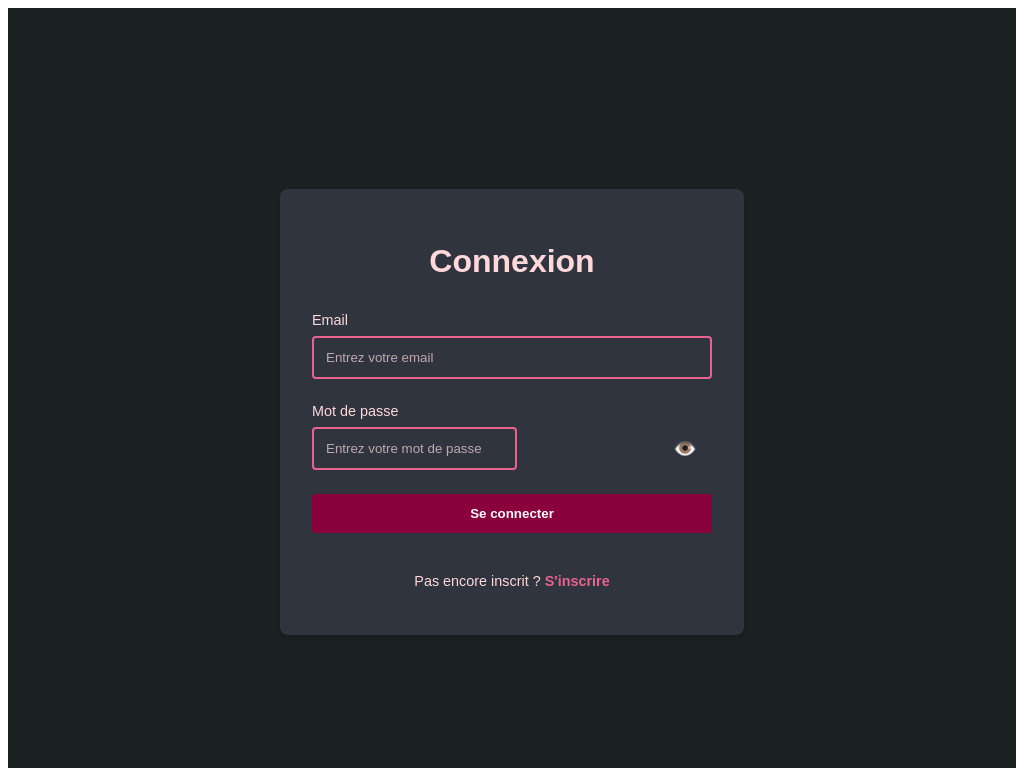
Test: Login.vue › désactive le bouton pendant le chargement
The width and height of the screenshot is (1024, 768).
// Remplir et soumettre le formulaire
Type "test@example.com" into the field with id "email" at [512, 357], box [312,336,712,378]
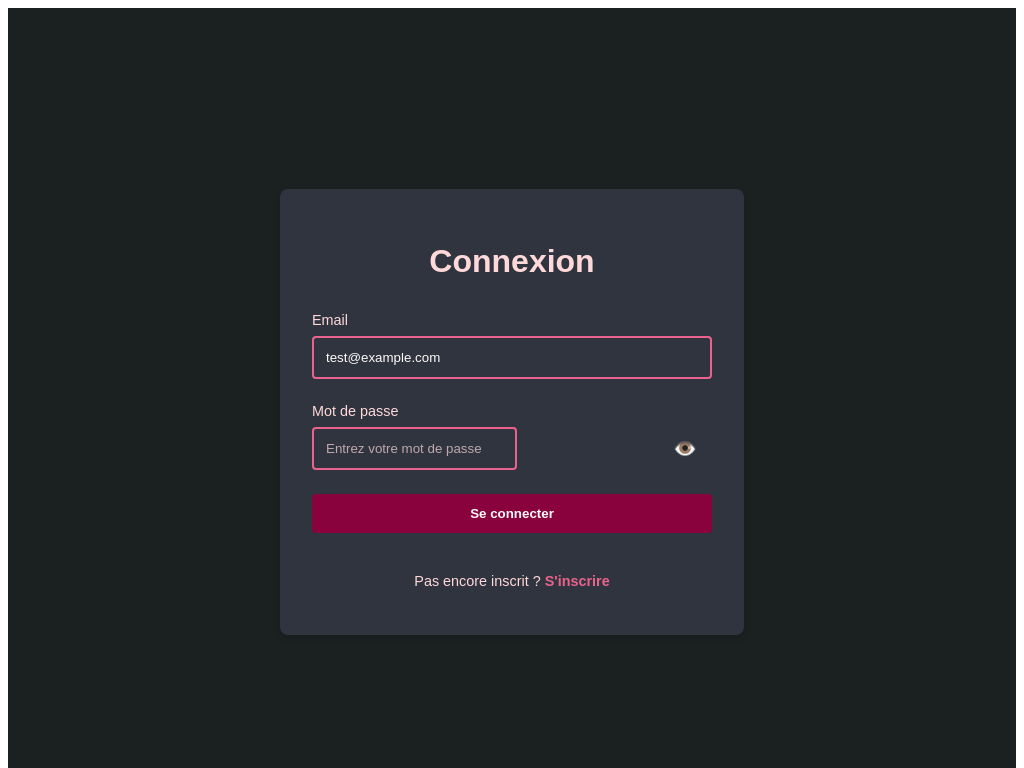
Type "password123" into the password field labelled "Mot de passe" at [414, 448], box [312,426,517,470]
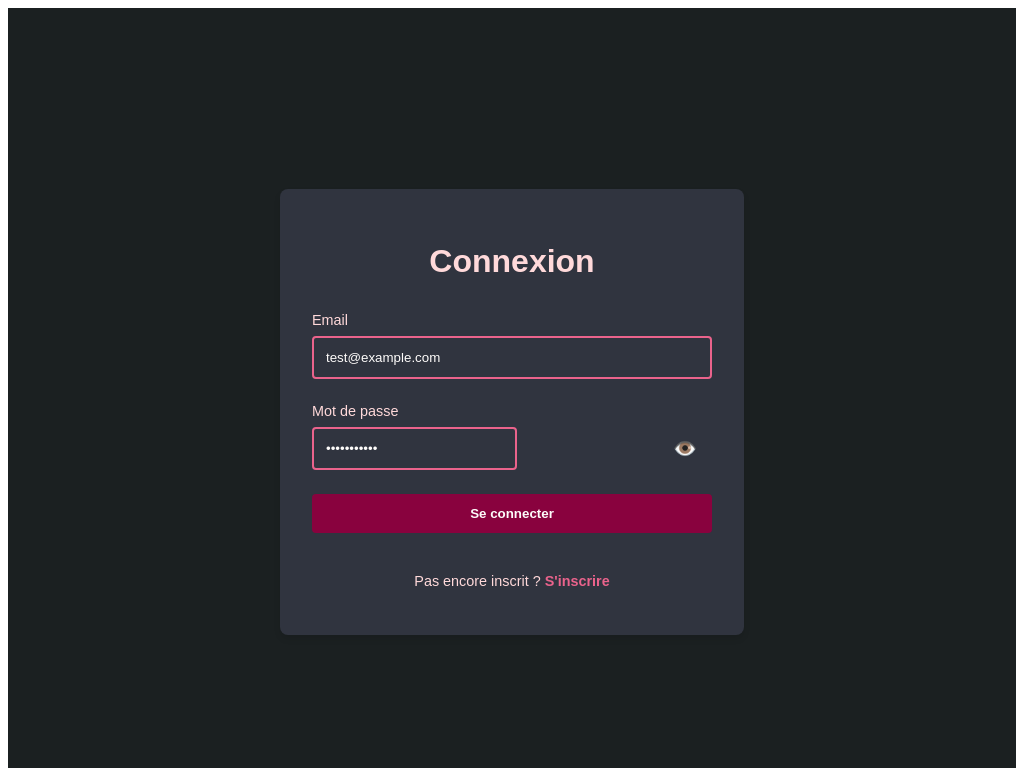
Submit the form, box [312,312,712,603]
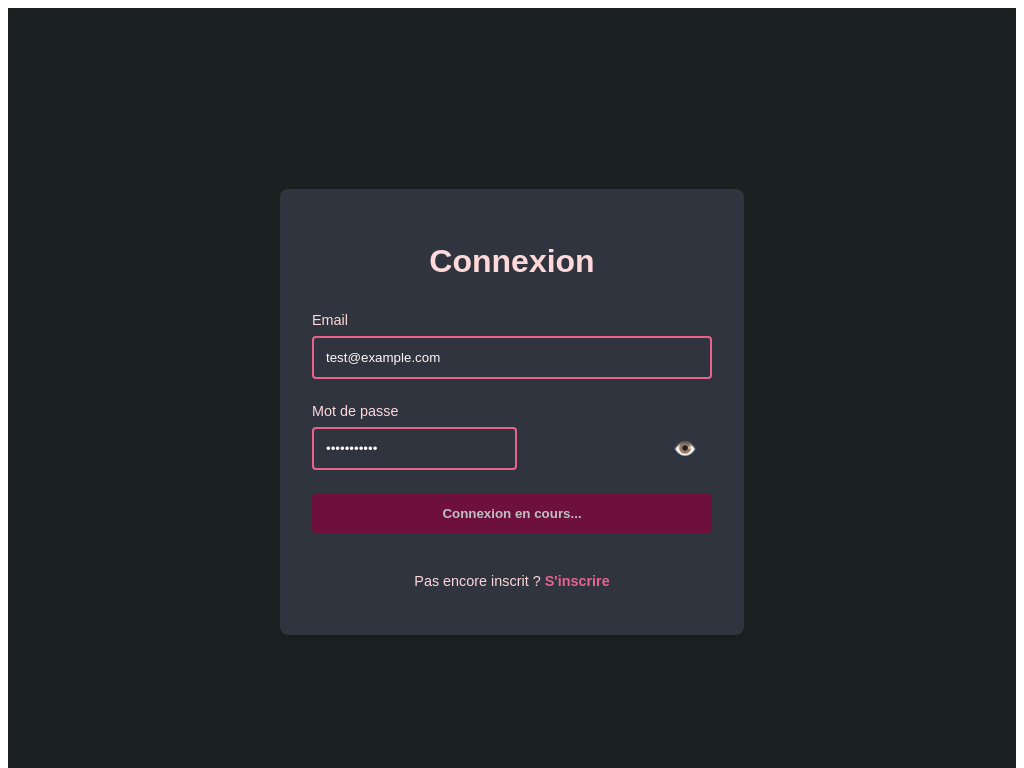
Expected: the submit button is disabled, [312,494,712,532]
Expected: the submit button reads "Connexion en cours...", [312,494,712,532]
